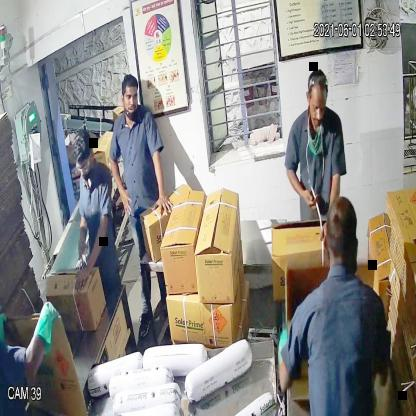goggles: (75, 154, 93, 178)
no_goggles: (304, 89, 327, 119)
